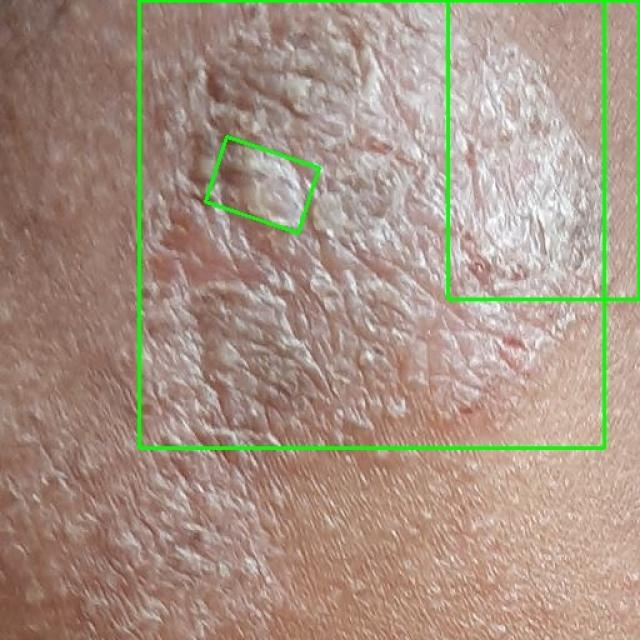Contact Dermatitis: (139, 0, 604, 448), (448, 0, 639, 299), (205, 137, 319, 233)
